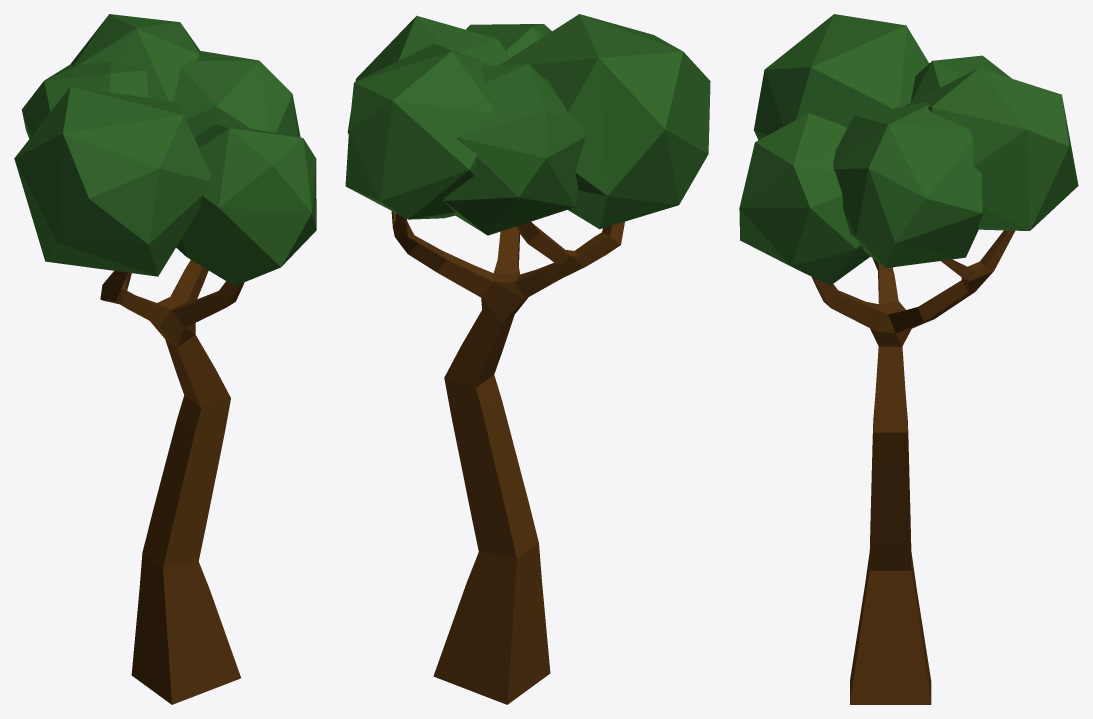
Rendered from Tree2.fbx.
The picture shows the model from 3 angles, left to right: view 1: azimuth 30°, elevation 25°; view 2: azimuth 150°, elevation 25°; view 3: azimuth 270°, elevation 25°; orthographic projection. The views are drawn at different scales.
Parts seen in each view (by area): view 1: Tree2; view 2: Tree2; view 3: Tree2.
Boxes of the visible parts, bbox=[...] form: Tree2: bbox=[14, 14, 316, 704]; Tree2: bbox=[345, 14, 710, 704]; Tree2: bbox=[739, 14, 1078, 704].
Size of the model in its own units: 604 by 1263 by 619.
